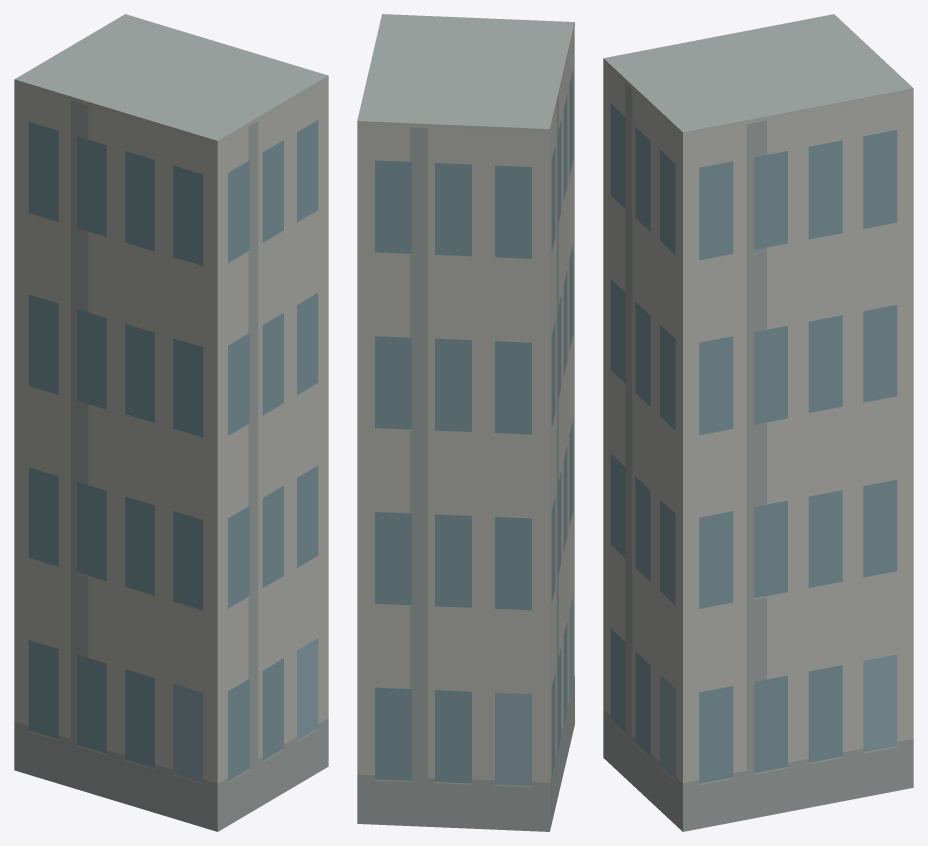
File: residential-6c188b22-677b-4e83-9be0-a91528177c00.glb
3 renders of one model, left to right at view 1: azimuth 30°, elevation 25°; view 2: azimuth 150°, elevation 25°; view 3: azimuth 270°, elevation 25°, orthographic.
Visible parts, largest first — view 1: residential-6c188b22-677b-4e83-9be0-a91528177c00.tmp; view 2: residential-6c188b22-677b-4e83-9be0-a91528177c00.tmp; view 3: residential-6c188b22-677b-4e83-9be0-a91528177c00.tmp.
Boxes of the visible parts, bbox=[...] form: residential-6c188b22-677b-4e83-9be0-a91528177c00.tmp: bbox=[14, 14, 328, 831]; residential-6c188b22-677b-4e83-9be0-a91528177c00.tmp: bbox=[357, 14, 574, 831]; residential-6c188b22-677b-4e83-9be0-a91528177c00.tmp: bbox=[603, 14, 913, 831].
Bounding box in the file's own units: 15.25 × 42 × 16.89.
